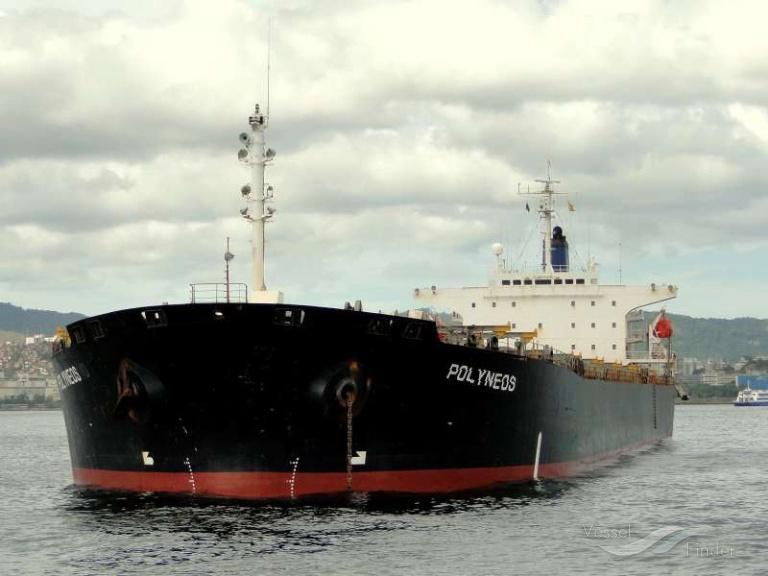OCR: (434, 354, 528, 400)
